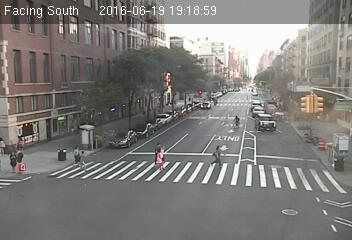neg: (230, 110, 247, 132), (104, 121, 118, 140), (128, 129, 139, 145)
pos: (207, 144, 226, 168)
